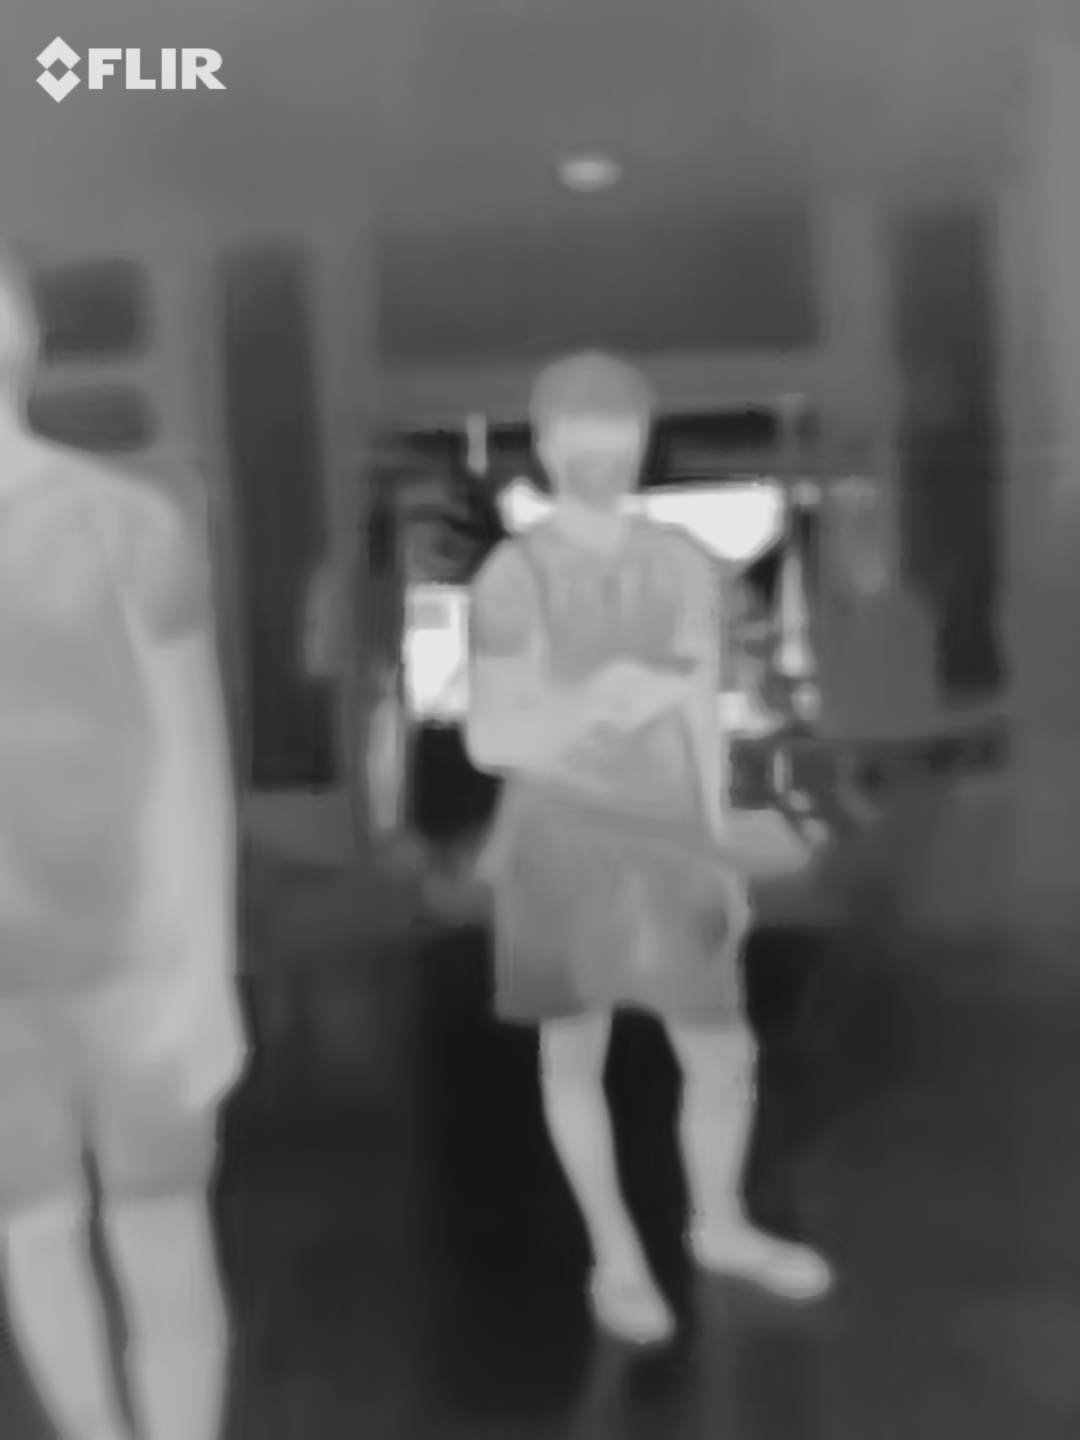head: (529, 344, 656, 512)
